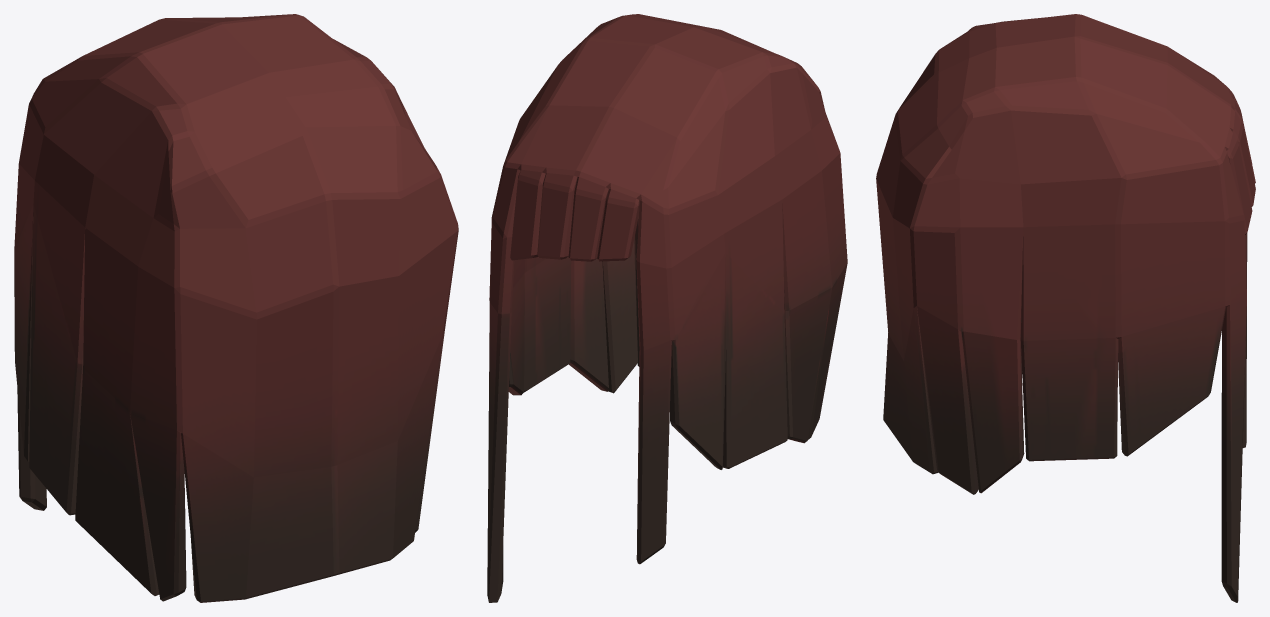
The model's file is hair0.glb.
3 views of the same model, side by side, from view 1: azimuth 30°, elevation 25°; view 2: azimuth 150°, elevation 25°; view 3: azimuth 270°, elevation 25° (orthographic). The views are drawn at different scales.
Visible parts, largest first — view 1: hair0; view 2: hair0; view 3: hair0.
Part boxes in pixels (box(x1,y1,x2,y2)): hair0: box(14, 14, 458, 602); hair0: box(487, 14, 847, 602); hair0: box(876, 14, 1255, 602).
Size of the model in its own units: 0.1625 by 0.3214 by 0.2109.
1 material, 1 textured.
